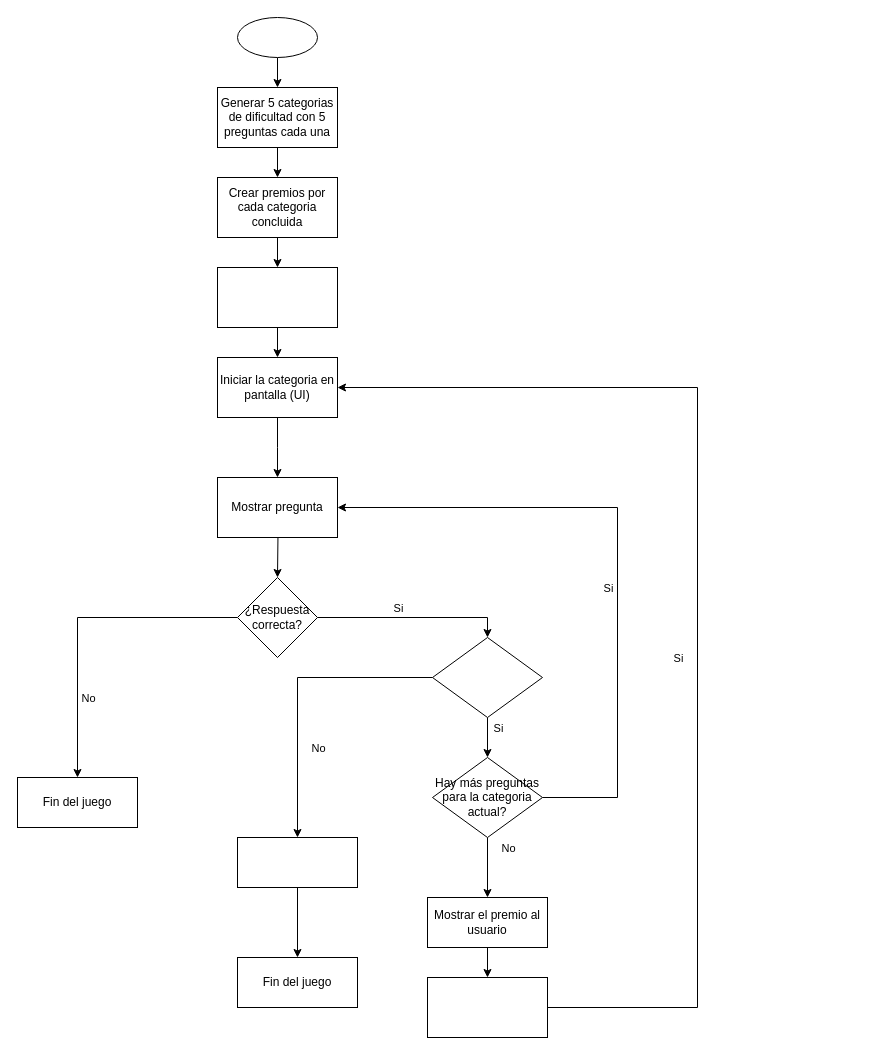
The diagram is 875 pixels wide and 1055 high, and some of its shapes have lost their labels. The box of each missing label's shape, as (x1, y1, x2, y2) in pixels:
Aumentar el nivel de dificutad de la categoria: (426, 976, 548, 1038)
Crear 5 preguntas con 4 respuestas (1 verdadera 3 falsas): (216, 266, 338, 328)
Inicio: (236, 16, 318, 58)
Mostrar premio acumulado: (236, 836, 358, 888)
Usuario desea continuar?: (432, 636, 542, 718)
